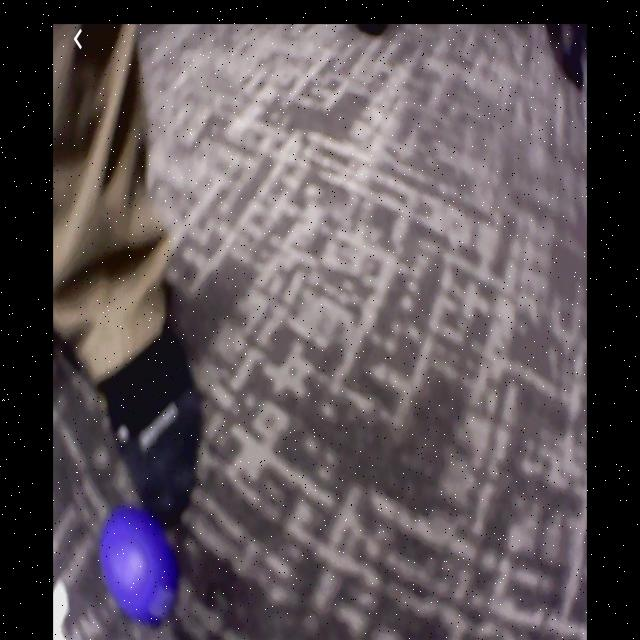ball: (101, 508, 176, 626)
